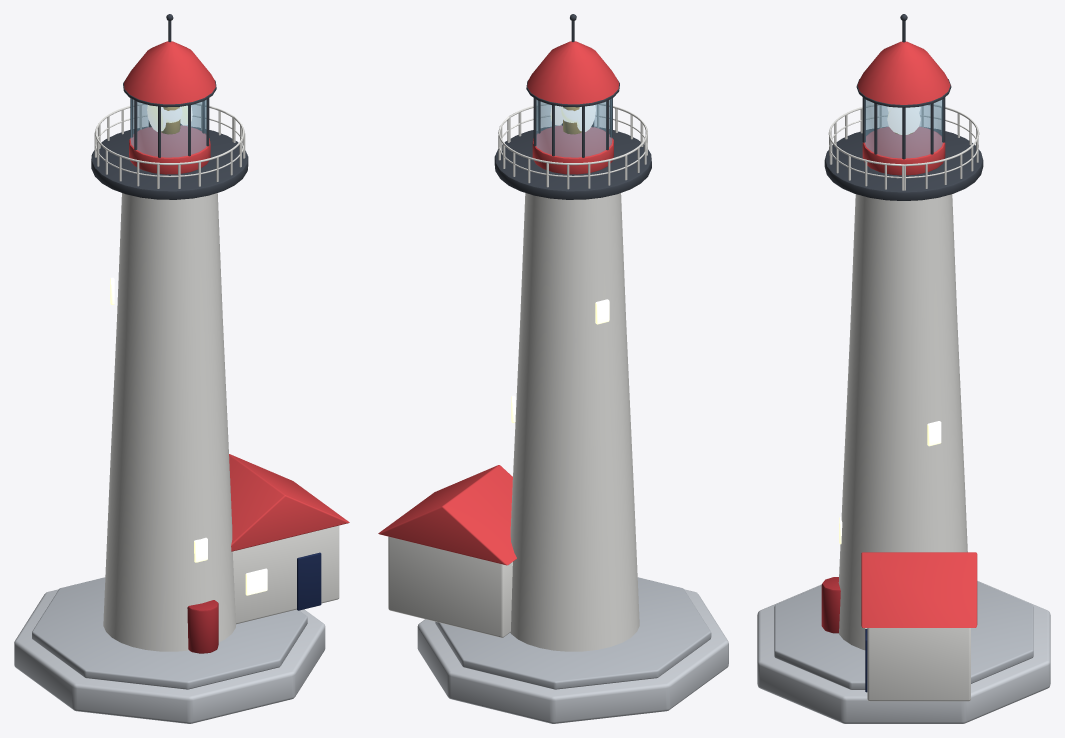
File: farol.glb
The picture shows the model from 3 angles, left to right: view 1: azimuth 30°, elevation 25°; view 2: azimuth 150°, elevation 25°; view 3: azimuth 270°, elevation 25°; orthographic projection.
Visible parts, largest first — view 1: farol, lanterna; view 2: farol, lanterna; view 3: farol, lanterna.
Boxes of the visible parts, x1,y1,x2,y2 form: farol: (14, 14, 349, 723); lanterna: (147, 105, 192, 134); farol: (378, 14, 728, 723); lanterna: (550, 105, 595, 134); farol: (757, 14, 1050, 723); lanterna: (887, 106, 920, 134).
Bounding box in the file's own units: 10.88 × 23.47 × 9.61.
4 materials, 1 textured.
